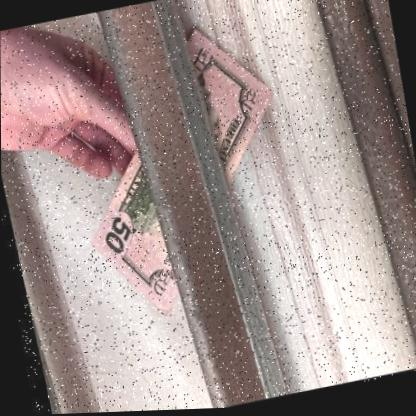fifty-back: (86, 30, 273, 320)
